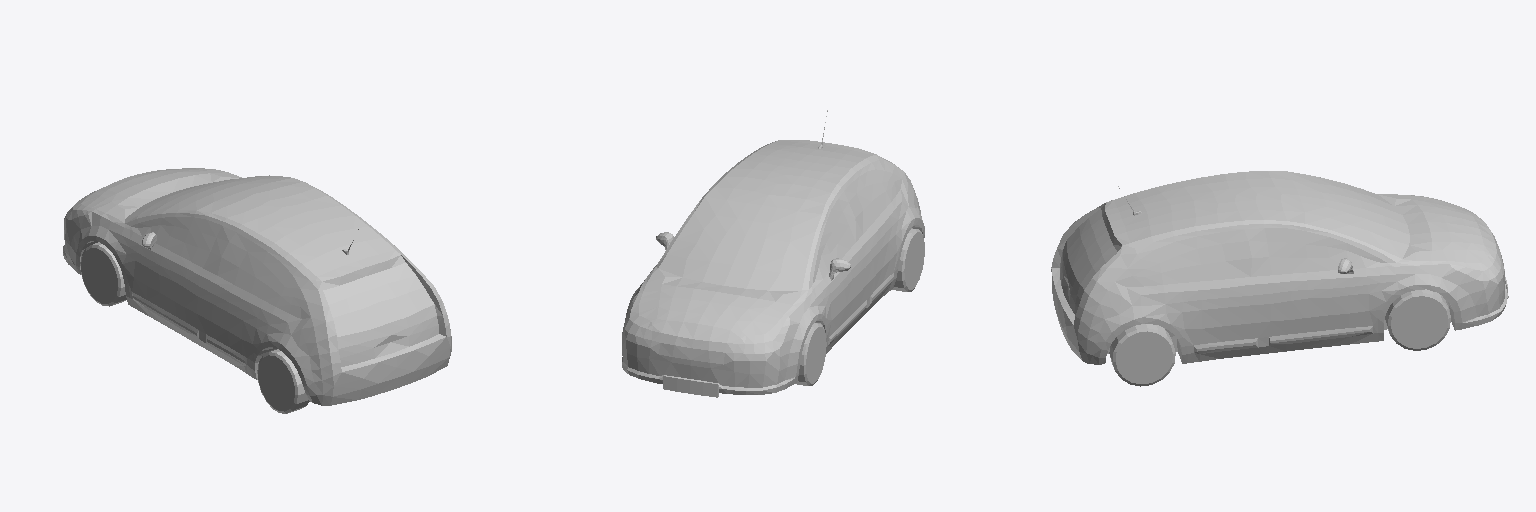
Rendered from carsAI_000239.obj.
3 views of the same model, side by side, from view 1: azimuth 30°, elevation 25°; view 2: azimuth 150°, elevation 25°; view 3: azimuth 270°, elevation 25° (orthographic).
Visible parts, largest first — view 1: car_5, tire_6, tire_9; view 2: car_5, tire_6, tire_9; view 3: car_5, tire_8, tire_7.
Boxes of the visible parts, box(x1,y1,x2,y2) form: car_5: box(63, 168, 451, 405); tire_6: box(257, 349, 309, 413); tire_9: box(80, 242, 126, 306); car_5: box(622, 110, 924, 397); tire_6: box(892, 228, 924, 291); tire_9: box(795, 323, 826, 385); car_5: box(1051, 171, 1508, 364); tire_8: box(1109, 324, 1175, 386); tire_7: box(1385, 289, 1450, 350).
Size of the model in its own units: 57.97 by 42.15 by 108.